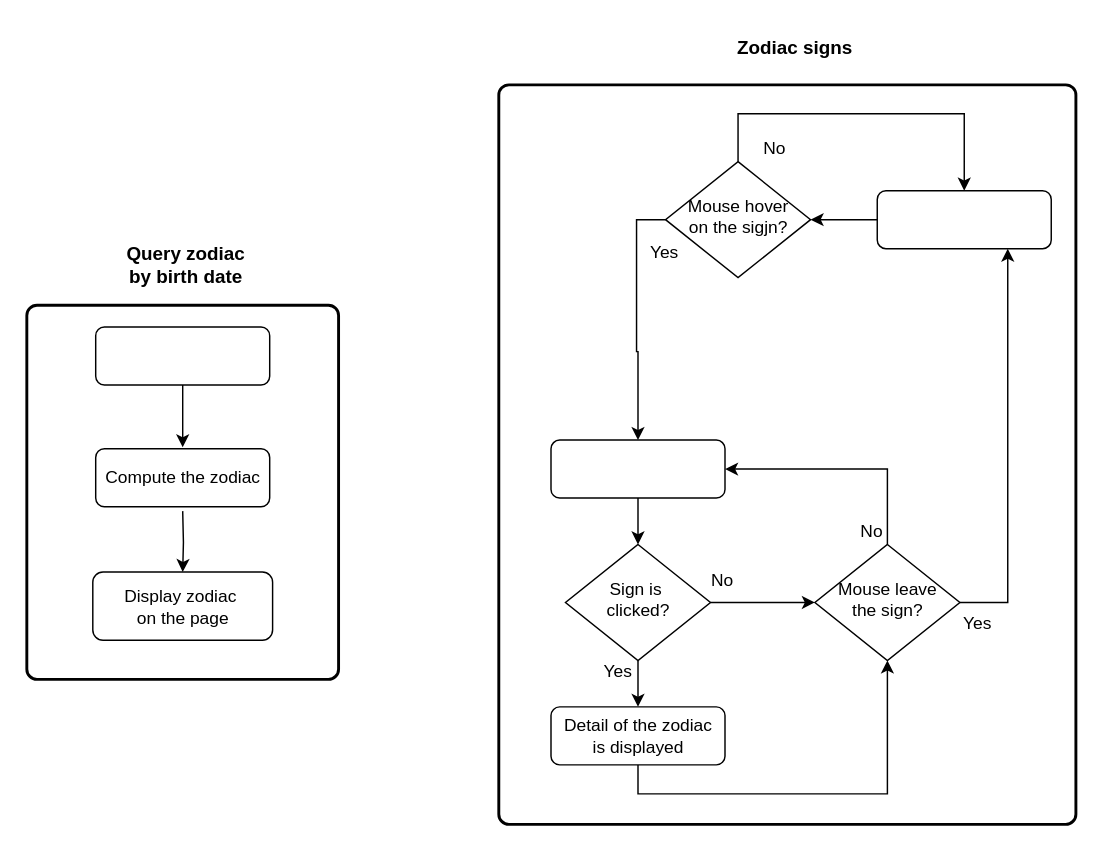
Image size: 1102x850. Some labels were removed from this diagram. The centre of each missing label's shape, as x and y in pixels:
"Idle state" goes at point (963, 219).
"Input birth date" goes at point (182, 355).
"The zodiac is highlighted" goes at point (637, 468).
